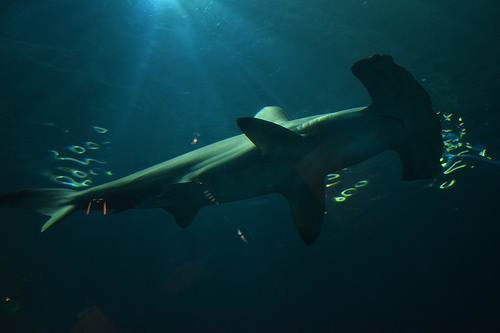shark: (7, 43, 463, 250)
